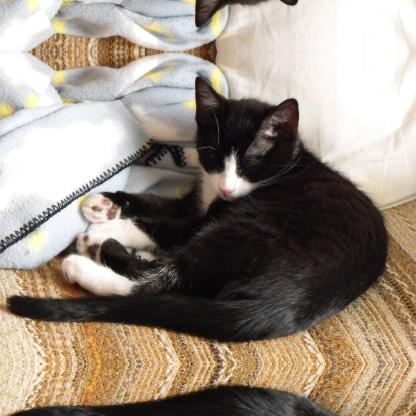Cat: (6, 76, 388, 344)
